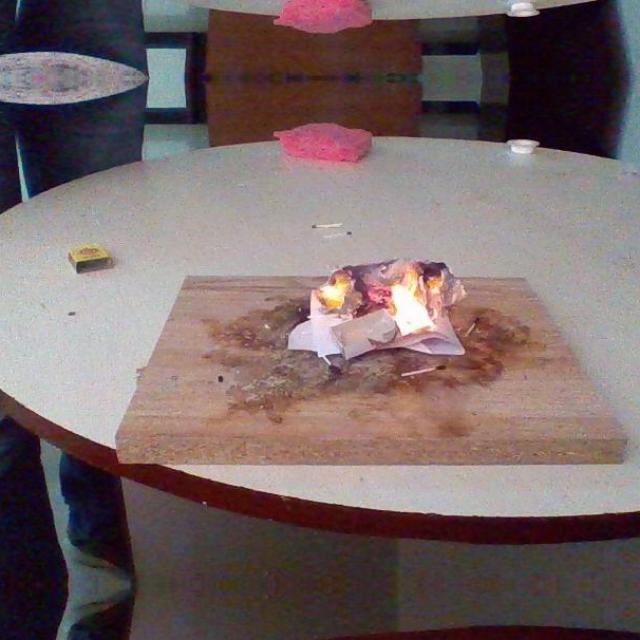smoke: (384, 280, 438, 337)
